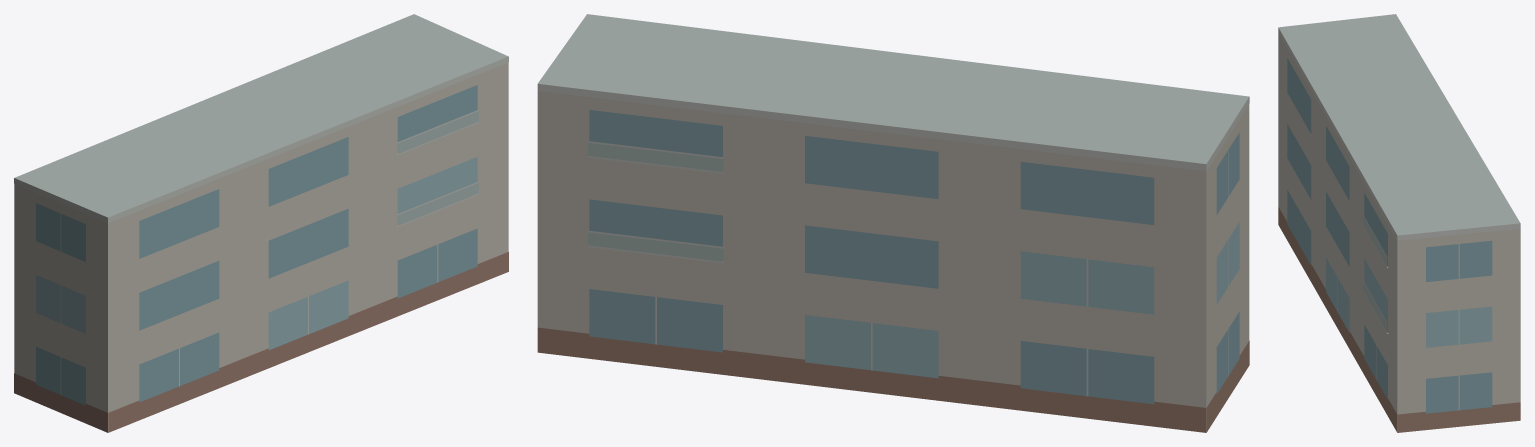
Rendered from survey-upis-32496006.glb.
The picture shows the model from 3 angles, left to right: view 1: azimuth 30°, elevation 25°; view 2: azimuth 150°, elevation 25°; view 3: azimuth 270°, elevation 25°; orthographic projection. The views are drawn at different scales.
Parts seen in each view (by area): view 1: survey-upis-32496006.tmp; view 2: survey-upis-32496006.tmp; view 3: survey-upis-32496006.tmp.
Boxes of the visible parts, x1,y1,x2,y2 form: survey-upis-32496006.tmp: (14, 14, 508, 432); survey-upis-32496006.tmp: (537, 14, 1249, 432); survey-upis-32496006.tmp: (1278, 14, 1520, 432).
Size of the model in its own units: 22.04 by 9.15 by 10.19.
